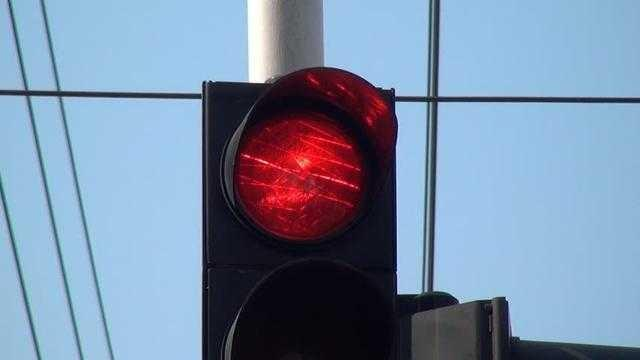red: (212, 80, 387, 256)
